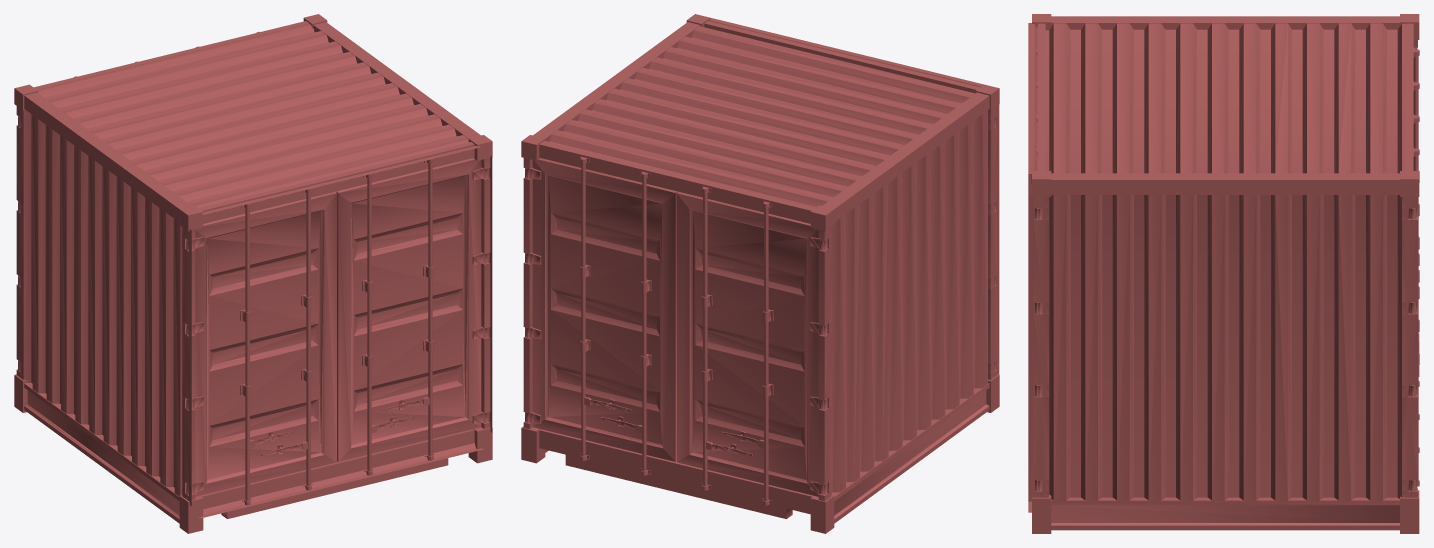
File: shipping_container_sm.fbx
3 renders of one model, left to right at view 1: azimuth 30°, elevation 25°; view 2: azimuth 150°, elevation 25°; view 3: azimuth 270°, elevation 25°, orthographic. The views are drawn at different scales.
Parts seen in each view (by area): view 1: shipping_container_sm; view 2: shipping_container_sm; view 3: shipping_container_sm.
Boxes of the visible parts, x1,y1,x2,y2 form: shipping_container_sm: (14, 14, 492, 533); shipping_container_sm: (521, 14, 999, 533); shipping_container_sm: (1028, 14, 1419, 533).
Size of the model in its own units: 192 by 192 by 192.
